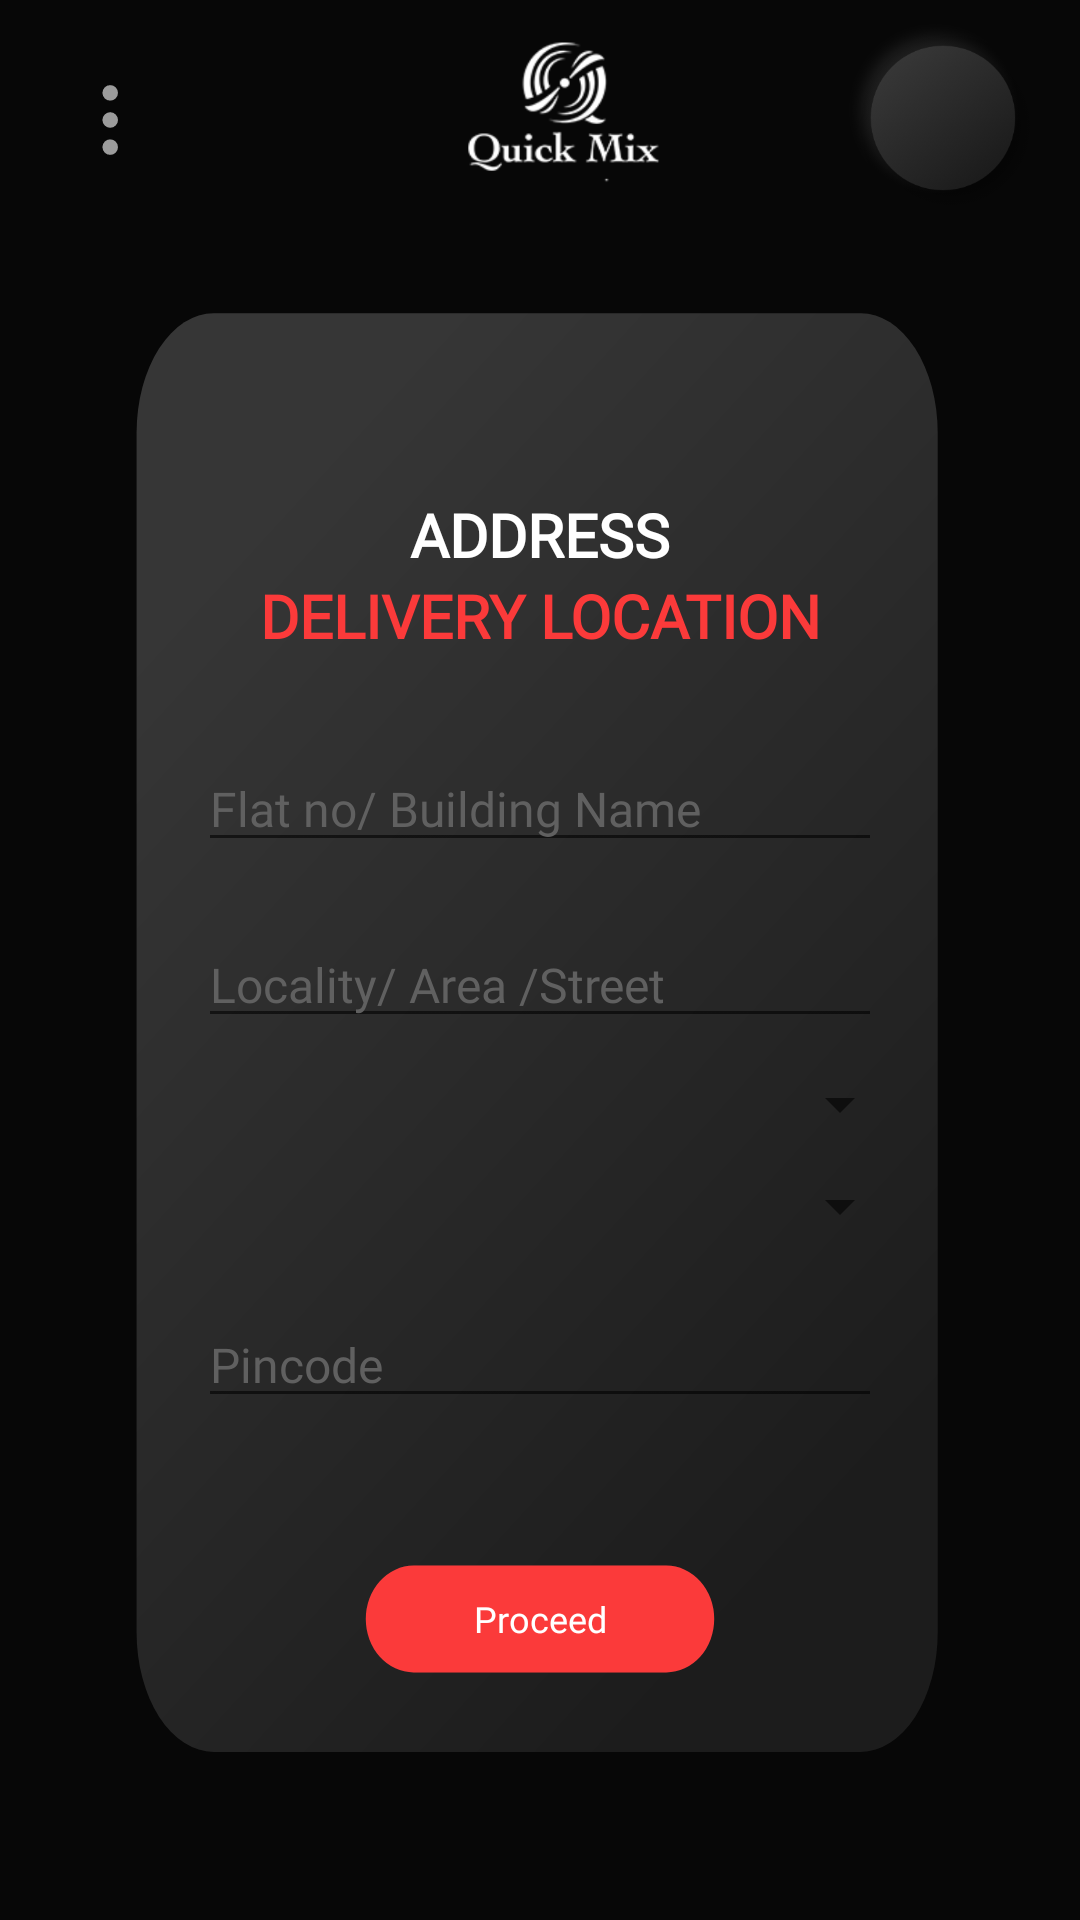

Icons on this 1080w x 1920h Android screen, each with the point to tap as [x,y]:
menu: [110,120]
